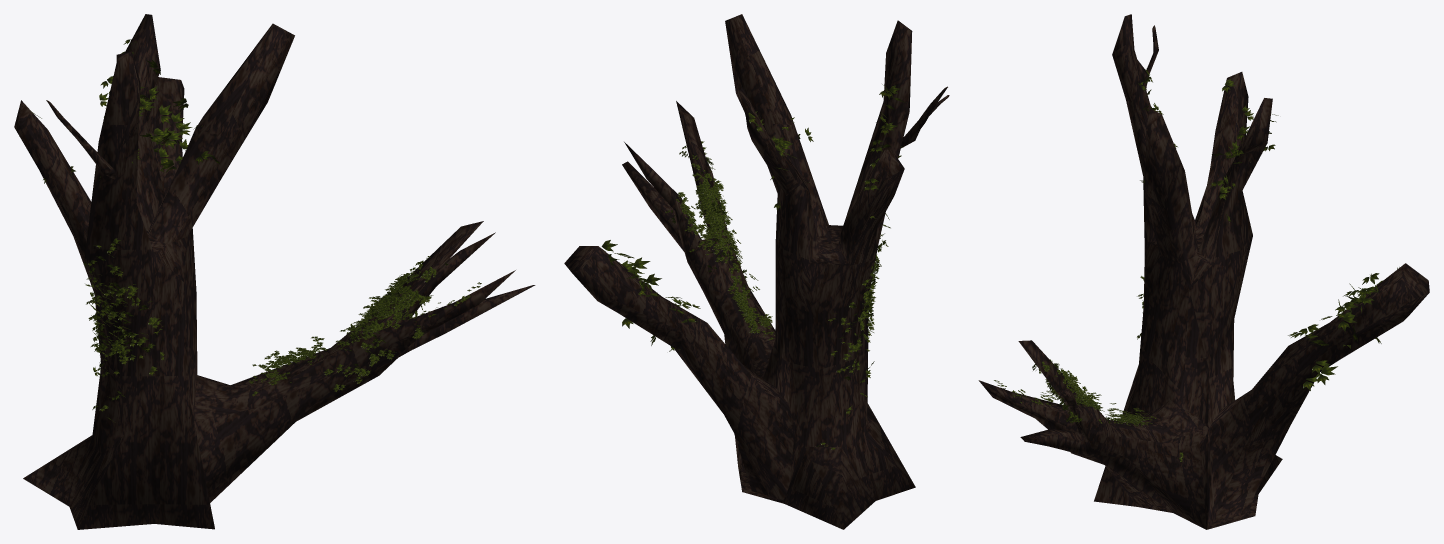
File: LargeTree_03.fbx
3 renders of one model, left to right at view 1: azimuth 30°, elevation 25°; view 2: azimuth 150°, elevation 25°; view 3: azimuth 270°, elevation 25°, orthographic. The views are drawn at different scales.
Parts seen in each view (by area): view 1: Cylinder, IvyLeaf; view 2: Cylinder, IvyLeaf; view 3: Cylinder, IvyLeaf.
Part boxes in pixels (x1=…): Cylinder: x1=14, y1=14, x2=535, y2=529; IvyLeaf: x1=30, y1=39, x2=481, y2=422; Cylinder: x1=564, y1=14, x2=949, y2=529; IvyLeaf: x1=601, y1=84, x2=905, y2=450; Cylinder: x1=978, y1=14, x2=1429, y2=529; IvyLeaf: x1=994, y1=68, x2=1399, y2=462.
Bounding box in the file's own units: 417 × 456 × 411.
